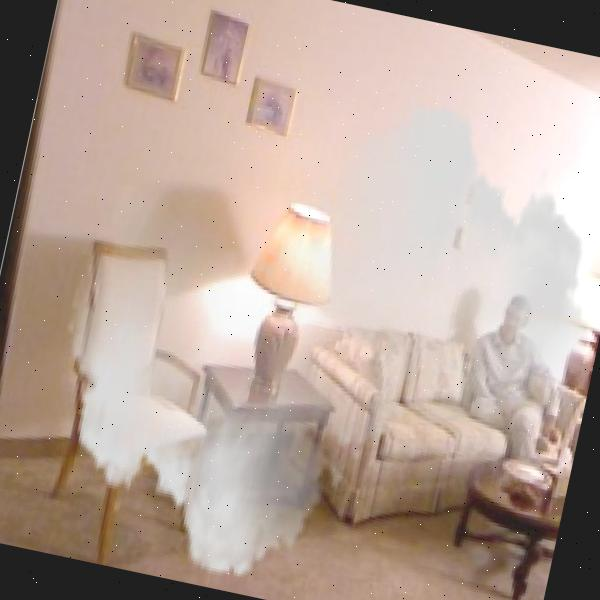smoke: (19, 22, 600, 600)
